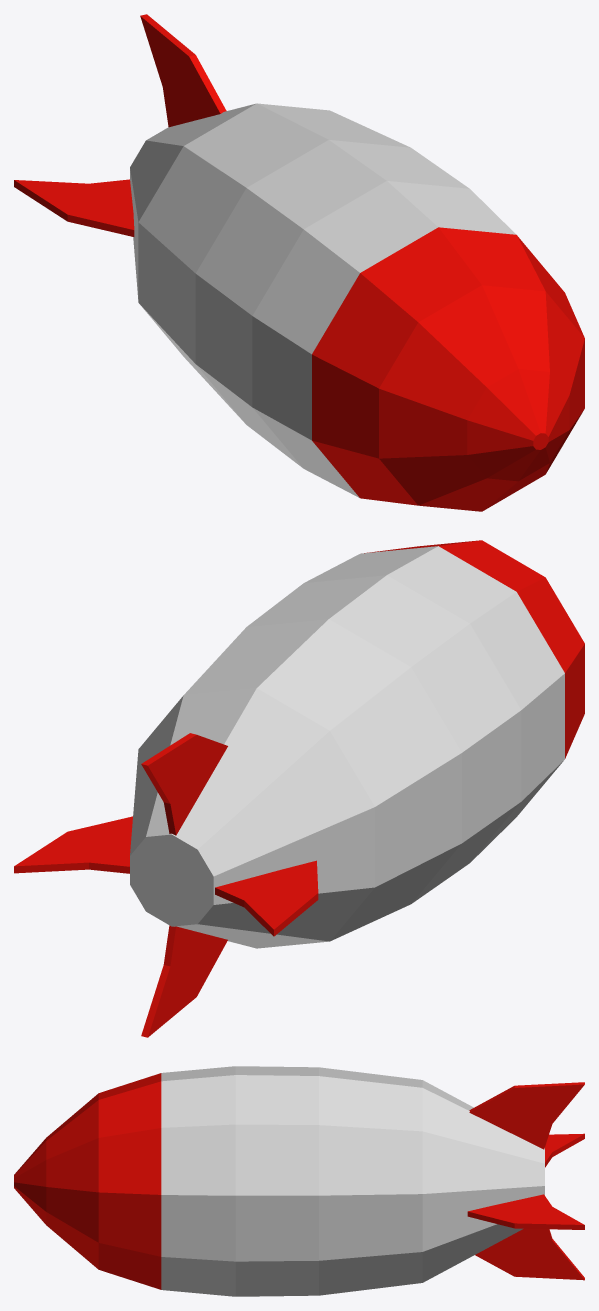
File: missilez.fbx
3 views of the same model, one above another, from view 1: azimuth 30°, elevation 25°; view 2: azimuth 150°, elevation 25°; view 3: azimuth 270°, elevation 25° (orthographic). The views are drawn at different scales.
Visible parts, largest first — view 1: Cylinder; view 2: Cylinder; view 3: Cylinder.
Part boxes in pixels (left/top/right/bottom): Cylinder: left=14, top=14, right=584, bottom=511; Cylinder: left=14, top=540, right=584, bottom=1037; Cylinder: left=14, top=1066, right=584, bottom=1296.
Size of the model in its own units: 39.92 by 41.97 by 102.
